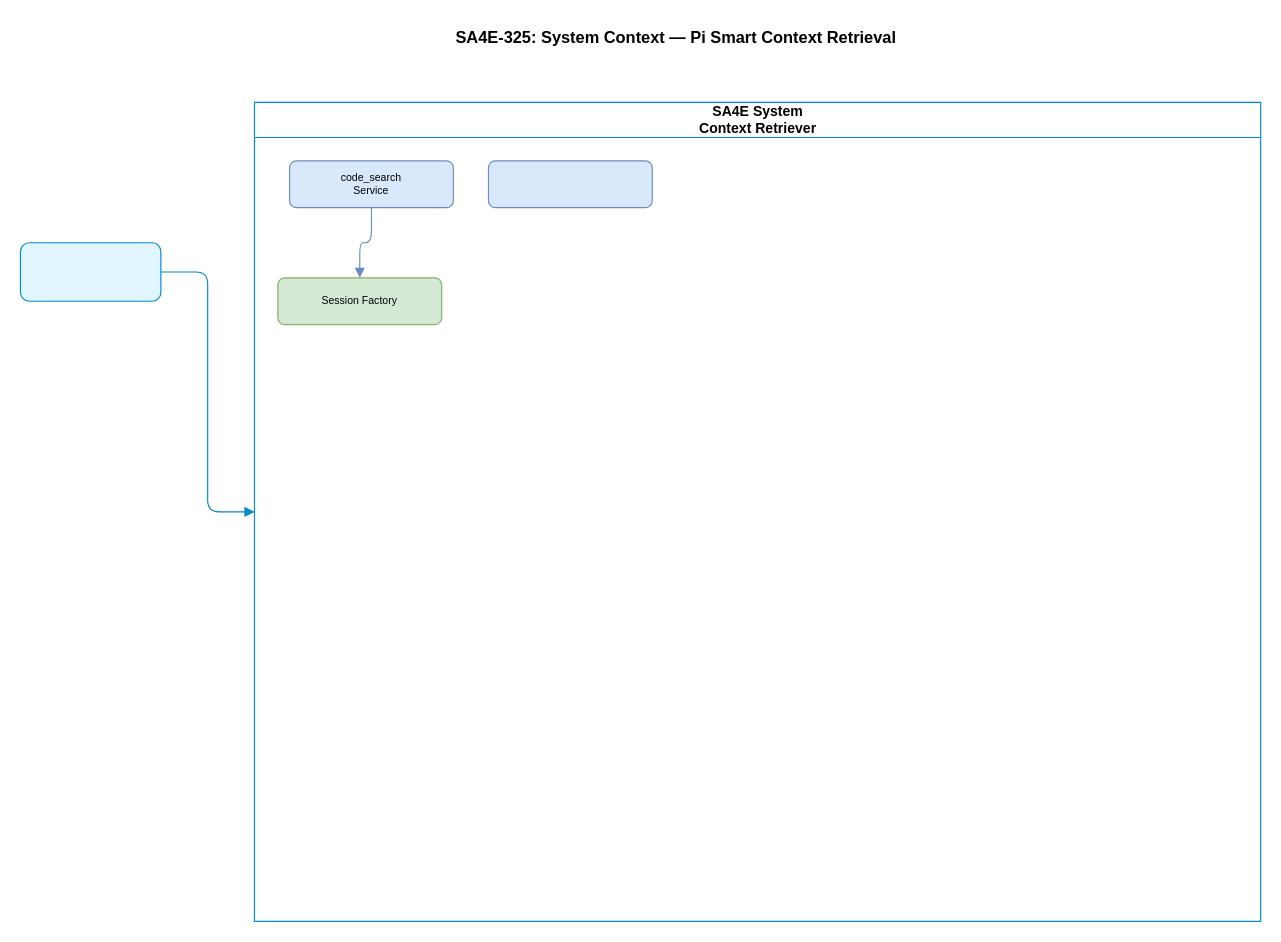
This 1281x942 diagram has some shape labels left out. Here are the shapes that lost their labels. From the top down, the centre of each, then its label:
At pixel 569 184: "mem_search Service".
At pixel 90 271: "Developer (User)".
